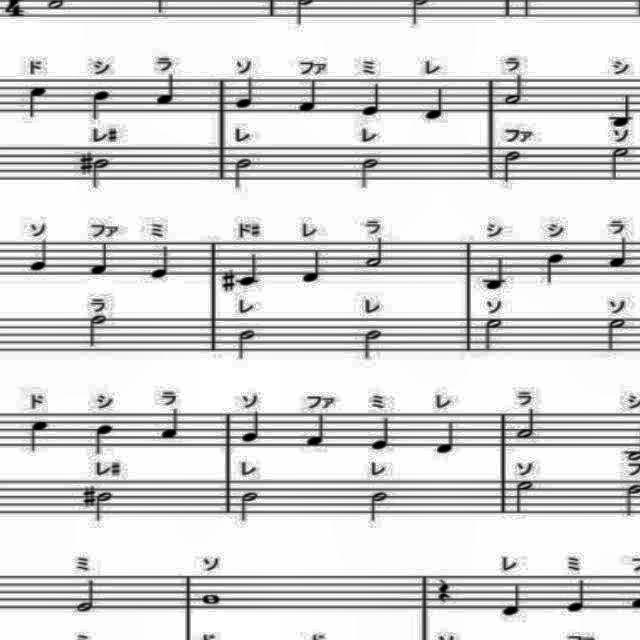Diez: (78, 483, 98, 515), (78, 148, 94, 176)
Full-note: (198, 588, 224, 608)
Half-note: (479, 316, 509, 356), (359, 488, 389, 528), (72, 574, 100, 616), (82, 310, 110, 350), (598, 314, 626, 354), (234, 486, 262, 526), (351, 153, 382, 189), (607, 140, 631, 186), (236, 326, 264, 364), (229, 156, 257, 192), (512, 408, 542, 440), (502, 146, 526, 186), (362, 327, 386, 365), (364, 233, 388, 270), (90, 157, 116, 191), (514, 475, 534, 517), (503, 71, 525, 109), (94, 486, 115, 524)
Quarter-note: (478, 253, 512, 294), (292, 246, 328, 284), (603, 89, 637, 128), (302, 406, 330, 449), (429, 417, 458, 458), (146, 242, 174, 284), (237, 408, 266, 448), (151, 70, 183, 106), (296, 78, 324, 119), (420, 81, 448, 122), (86, 236, 112, 280), (22, 238, 52, 276), (22, 84, 50, 122), (236, 246, 260, 290), (498, 576, 522, 620), (87, 88, 119, 120), (605, 235, 631, 273), (24, 417, 50, 455), (564, 576, 588, 616), (539, 249, 565, 283), (235, 74, 257, 114), (362, 80, 384, 120), (371, 417, 394, 455), (158, 406, 182, 442), (93, 422, 115, 458)
Quarter-rest: (436, 571, 456, 607)
